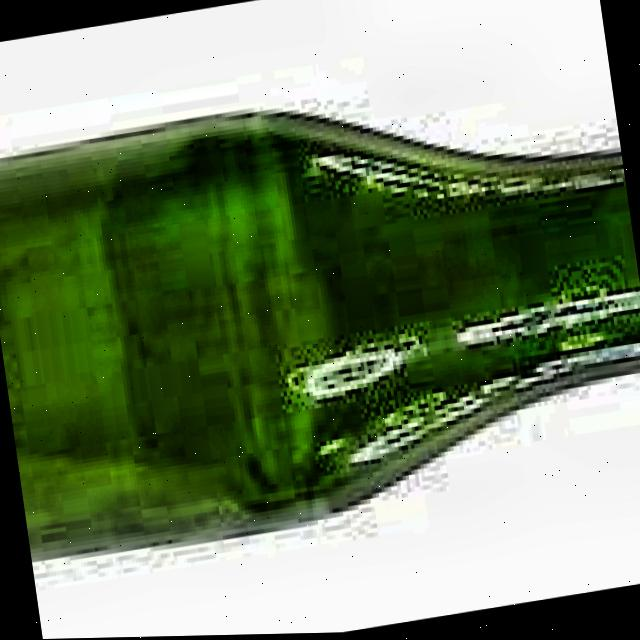glass: (0, 102, 640, 568)
